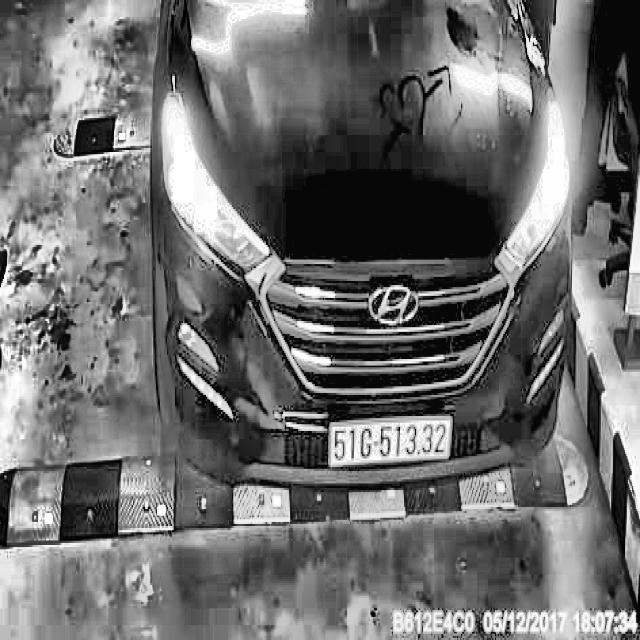plate: (325, 410, 454, 473)
